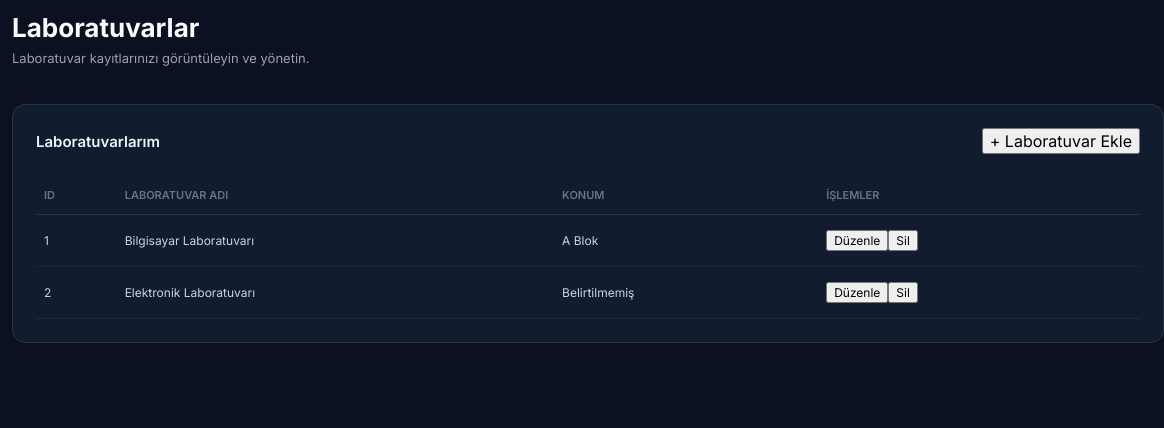
Scenario: Laboratories component › creates a laboratory and updates the list
expect the text "Bilgisayar Laboratuvarı" is shown: met, box [117, 214, 554, 266]
Click the button "+ Laboratuvar Ekle".
click(1061, 141)  # box [982, 128, 1140, 154]
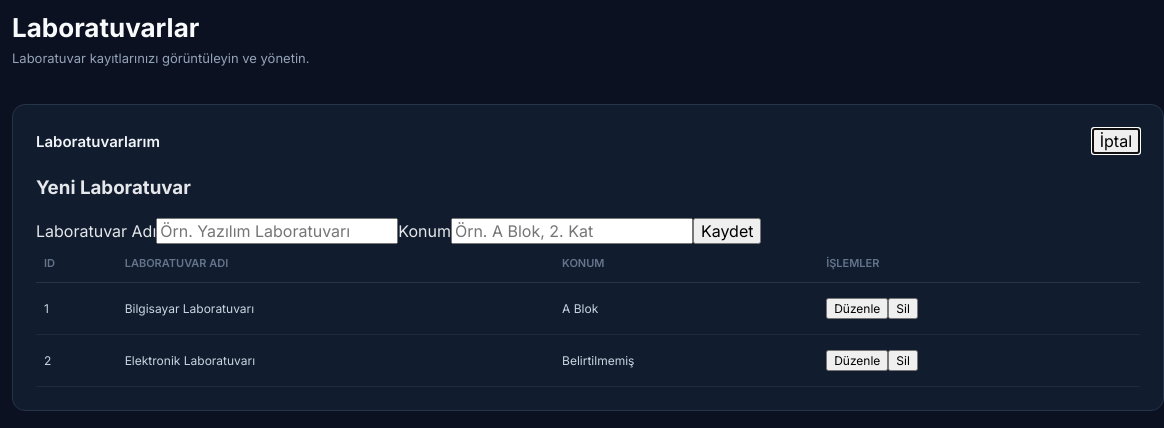
Type "Yazılım Laboratuvarı" into the field labelled "Laboratuvar Adı".
click(277, 231); type("Yazılım Laboratuvarı")  # box [156, 218, 398, 244]
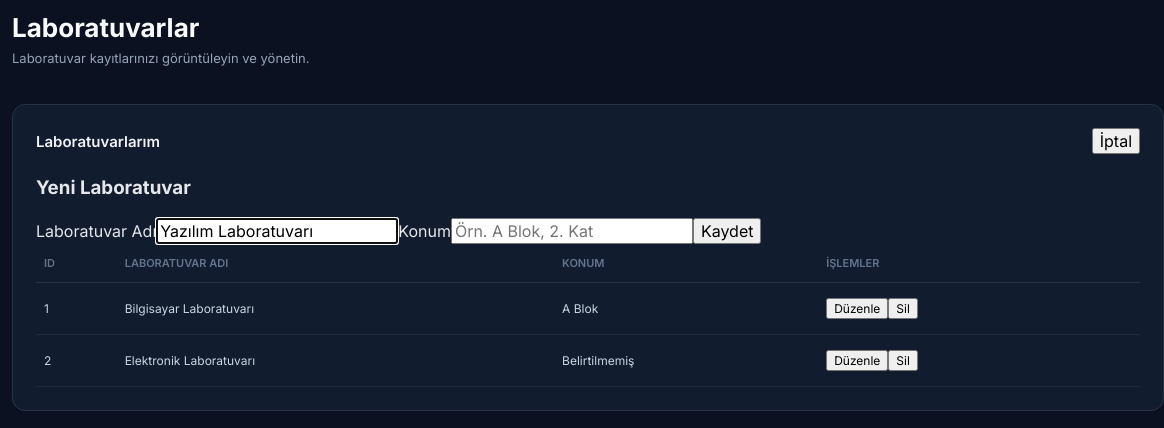
Type "C Blok" into the field labelled "Konum".
click(572, 231); type("C Blok")  # box [451, 218, 693, 244]
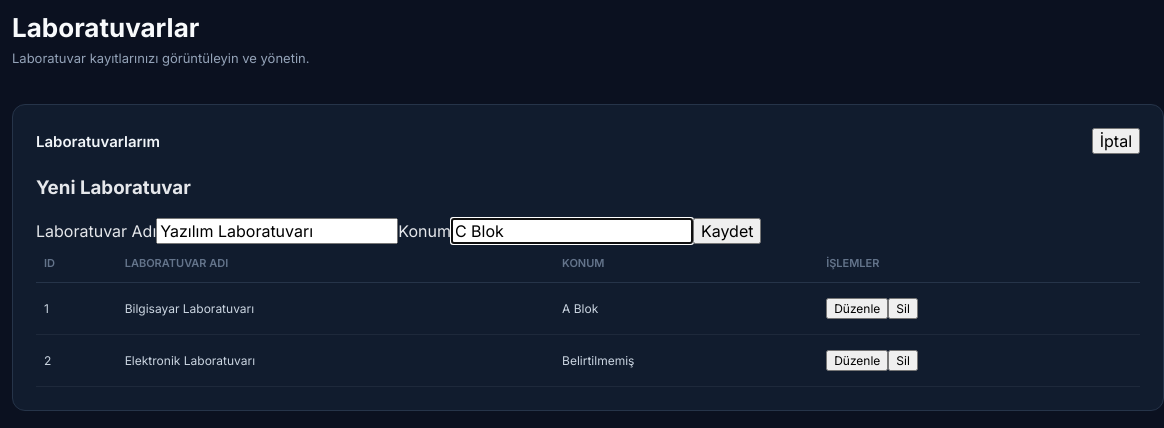
Click the button "Kaydet".
click(727, 231)  # box [693, 218, 761, 244]
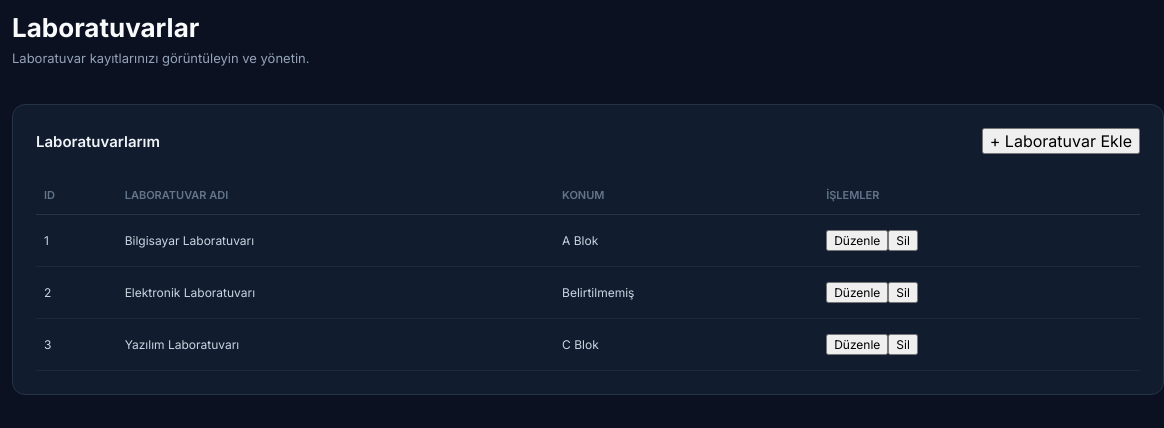
expect the text "Bilgisayar Laboratuvarı" is shown: met, box [117, 214, 554, 266]
expect the text "Yazılım Laboratuvarı" is shown: met, box [117, 318, 554, 370]
expect the label labelled "Laboratuvar Adı" is gone: met
